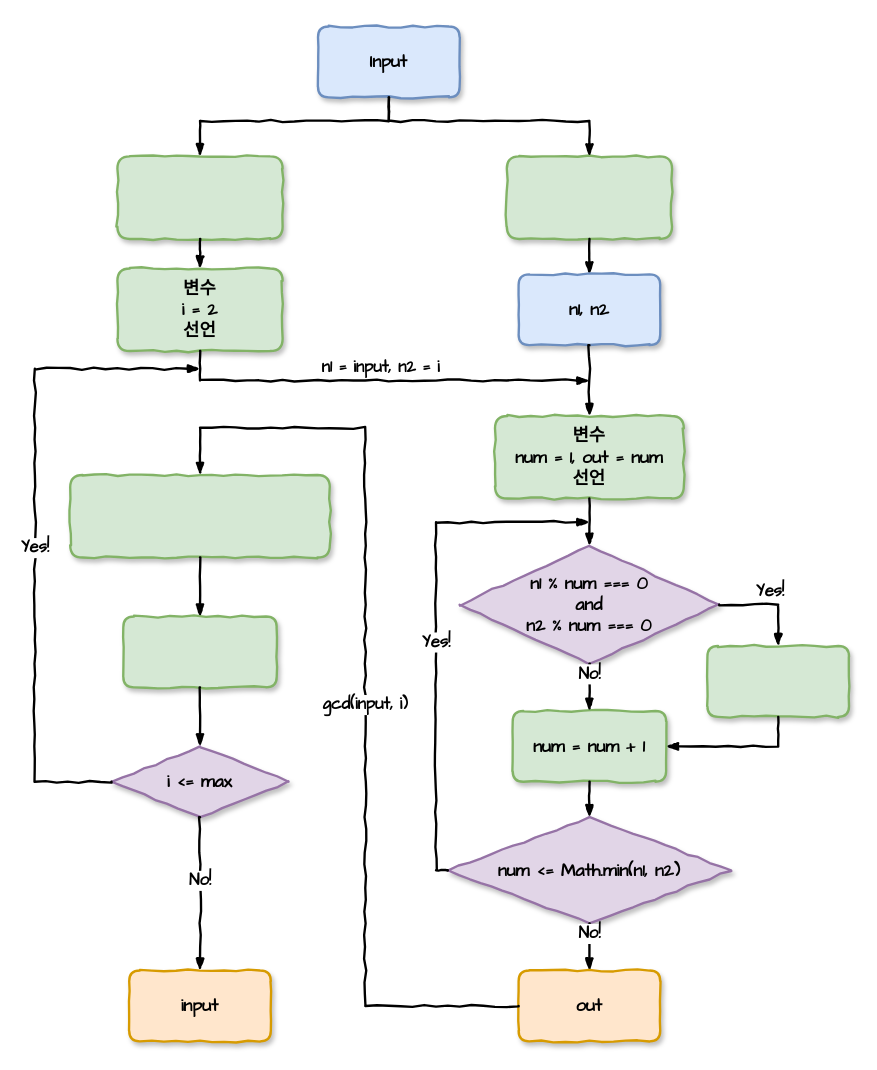
Some shapes in this 877 by 1070 pixel diagram are drawn without their labels. Here are the shapes that lost their labels. From the top down, the centre of each, then its label:
point 200,199: 상수 max = input 고정
point 590,199: 함수 gcd 선언
point 200,517: input = input * i / gcd(input, i)
point 200,653: i = i + 1
point 779,683: out = num
